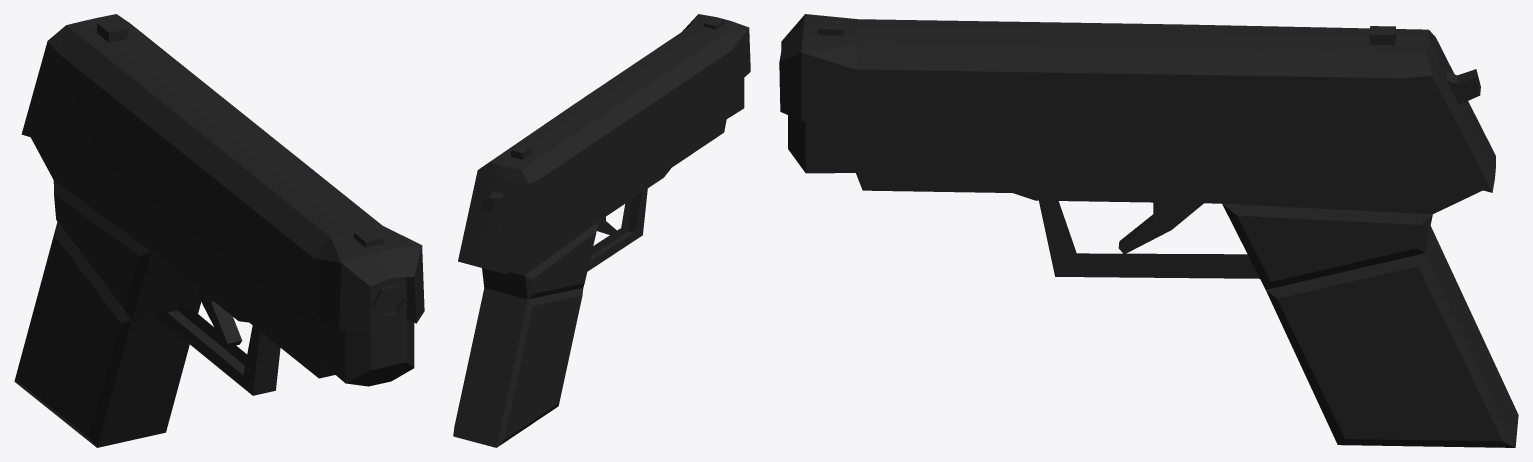
Rendered from Police_M_Gun.fbx.
3 renders of one model, left to right at view 1: azimuth 30°, elevation 25°; view 2: azimuth 150°, elevation 25°; view 3: azimuth 270°, elevation 25°, orthographic. The views are drawn at different scales.
Visible parts, largest first — view 1: Police_M_Gun; view 2: Police_M_Gun; view 3: Police_M_Gun.
Part boxes in pixels (<box>): Police_M_Gun: <box>14,14,424,447</box>; Police_M_Gun: <box>453,14,750,447</box>; Police_M_Gun: <box>779,14,1518,447</box>.
Bounding box in the file's own units: 4.5 × 16.5 × 27.69.
